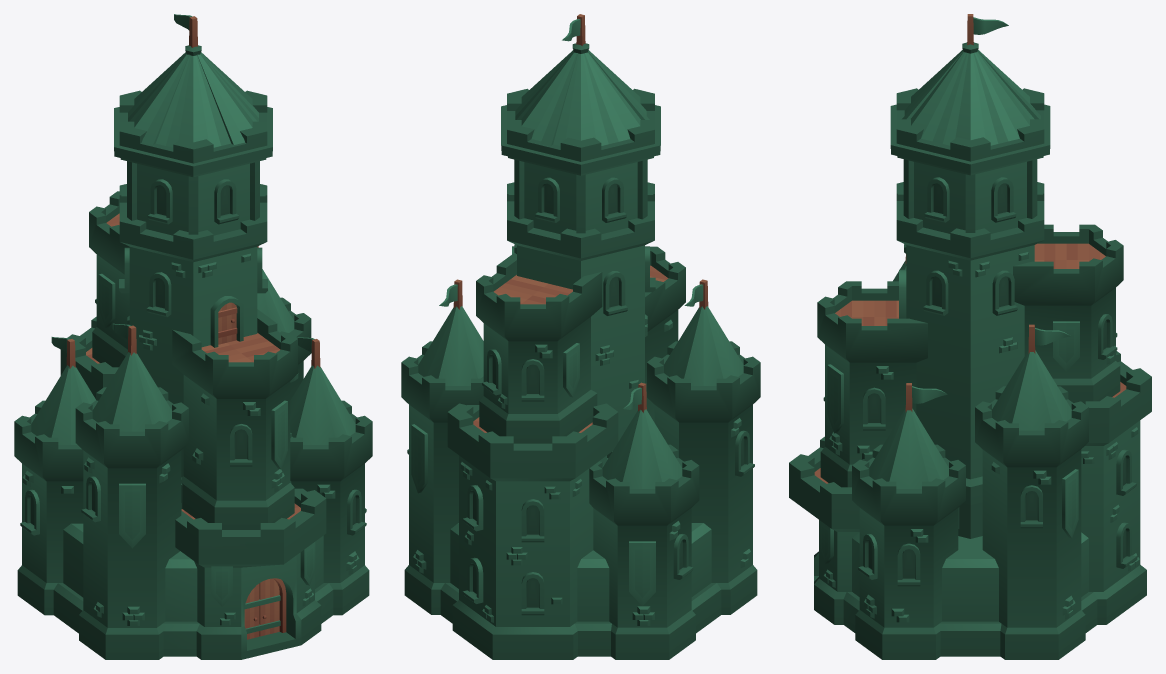
File: castle-elf.glb
3 renders of one model, left to right at view 1: azimuth 30°, elevation 25°; view 2: azimuth 150°, elevation 25°; view 3: azimuth 270°, elevation 25°, orthographic.
Parts seen in each view (by area): view 1: castle-elf; view 2: castle-elf; view 3: castle-elf.
Part boxes in pixels (x1=…): castle-elf: x1=14, y1=14, x2=372, y2=659; castle-elf: x1=401, y1=14, x2=760, y2=659; castle-elf: x1=789, y1=14, x2=1151, y2=659.
Bounding box in the file's own units: 1.98 × 3.98 × 2.26.
